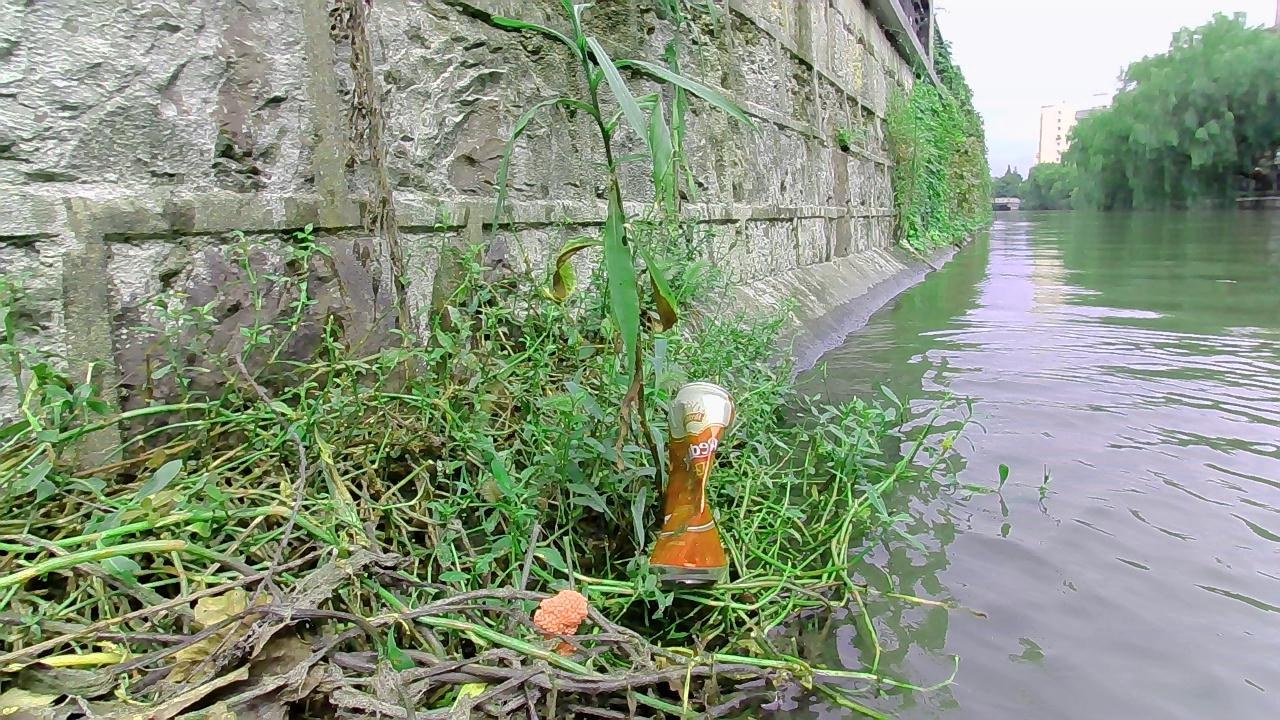Metal: (645, 379, 739, 585)
